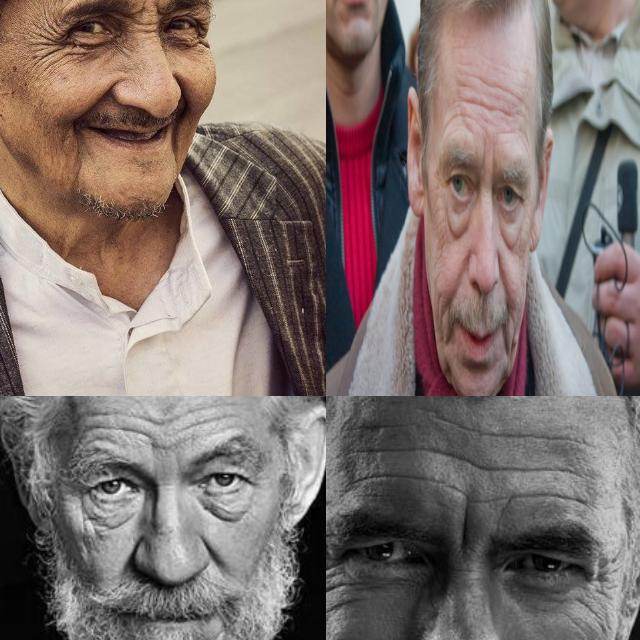crows_feet: (34, 27, 70, 67), (590, 555, 620, 599), (326, 547, 339, 599), (434, 190, 447, 232), (522, 190, 532, 227)
forehead: (506, 422, 596, 453), (507, 482, 595, 512), (508, 456, 590, 484), (447, 440, 498, 484), (354, 464, 428, 491), (132, 407, 166, 461), (354, 438, 428, 462), (184, 401, 236, 435), (493, 81, 524, 133), (85, 404, 122, 446), (452, 76, 488, 116), (422, 402, 464, 433)
frown_line: (454, 501, 476, 552), (131, 0, 161, 36), (482, 137, 496, 174)
gummy_smile: (78, 80, 115, 116)
masseter: (507, 306, 518, 356), (435, 288, 445, 342)
